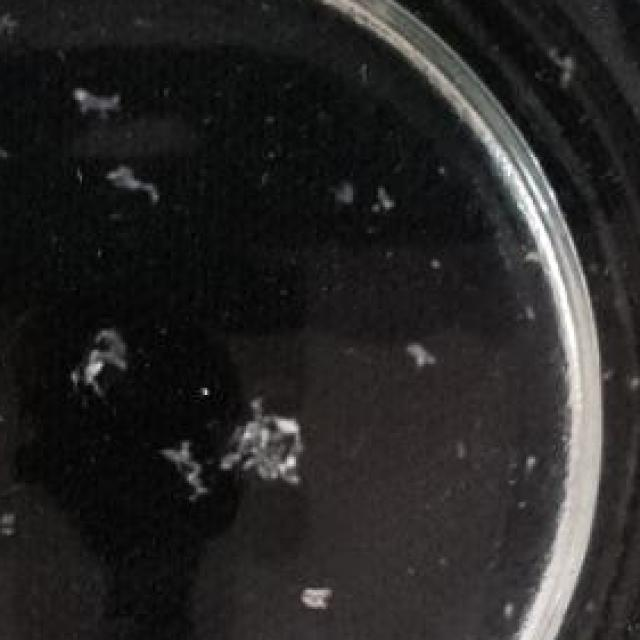Microplastic: (202, 388, 316, 500), (55, 312, 136, 395), (66, 62, 144, 131), (166, 443, 221, 521), (89, 160, 180, 204), (394, 316, 442, 386), (544, 38, 594, 98), (367, 174, 412, 240), (306, 566, 340, 628), (0, 490, 34, 550), (323, 174, 367, 212), (0, 14, 25, 45)
